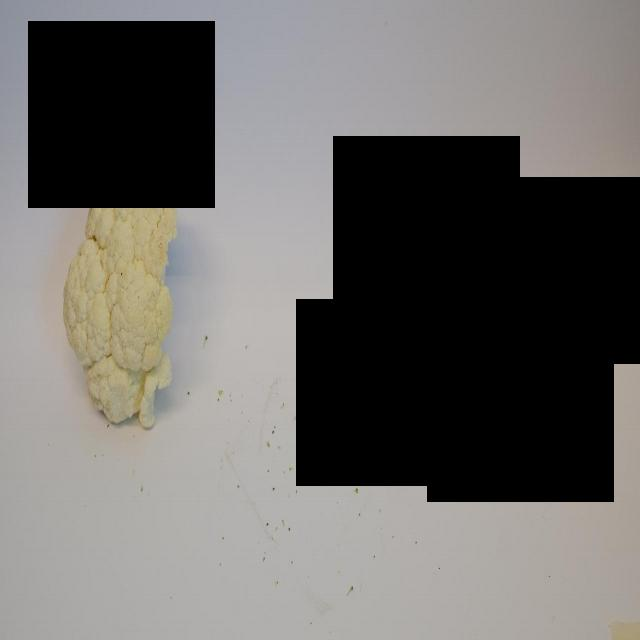cauliflower: (63, 147, 182, 429)
